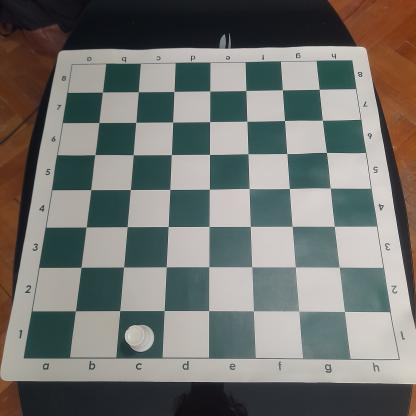white-rook: (124, 322, 158, 354)
